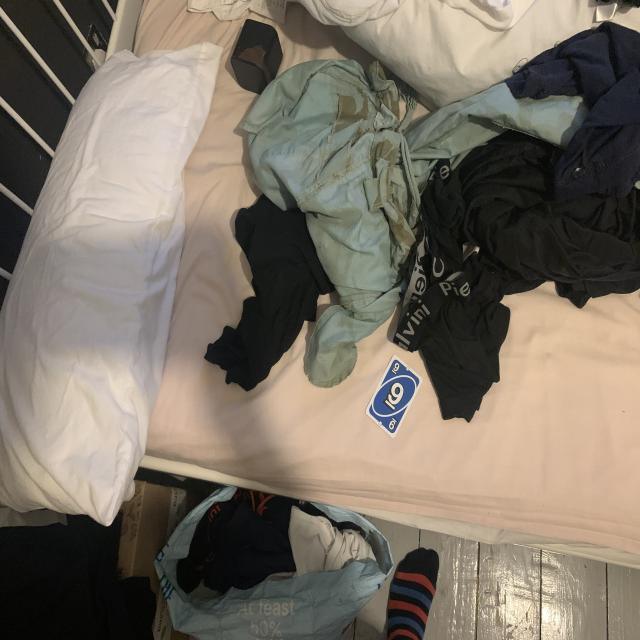lblue-9: (390, 362, 400, 376)
